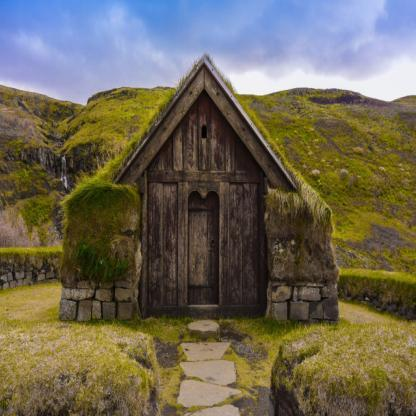Building Outline: (58, 53, 338, 323)
Door: (187, 191, 219, 304)
Facade: (76, 182, 305, 321)
Ground Floor: (62, 64, 336, 320)
Roof: (111, 53, 299, 190)
Window: (202, 125, 207, 138)
